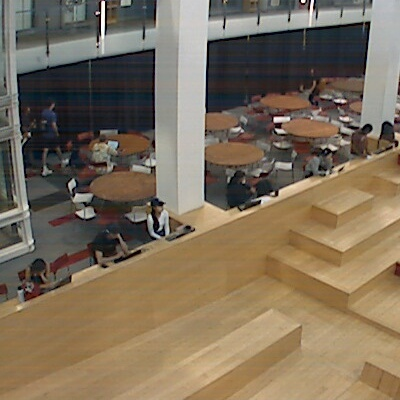head: (102, 222, 123, 241), (149, 196, 167, 218), (28, 257, 49, 274), (232, 168, 249, 184), (317, 146, 334, 161), (359, 119, 372, 138), (95, 132, 111, 145), (42, 98, 59, 110), (307, 65, 320, 76)
